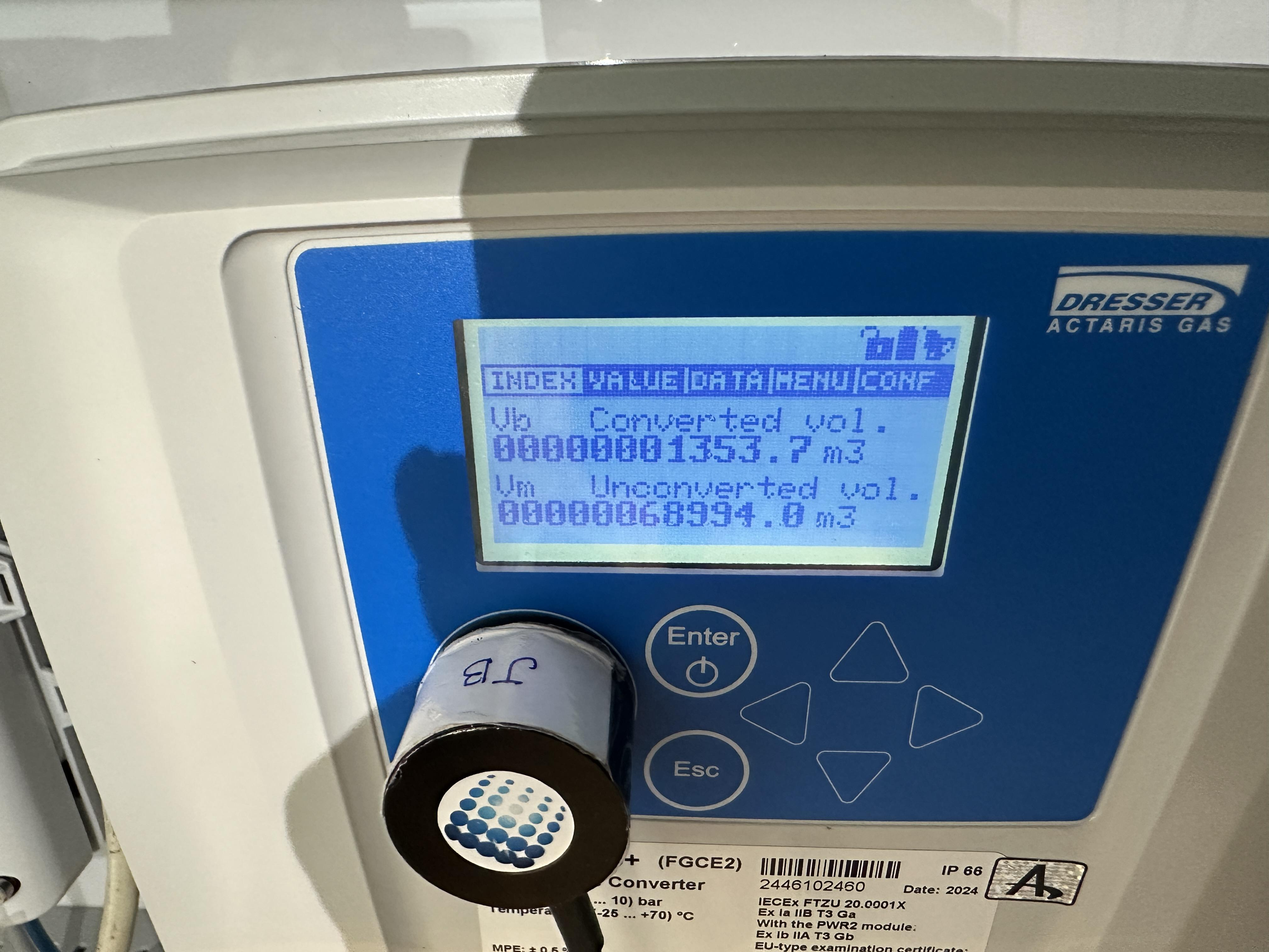digital_screen: (465, 316, 980, 569)
